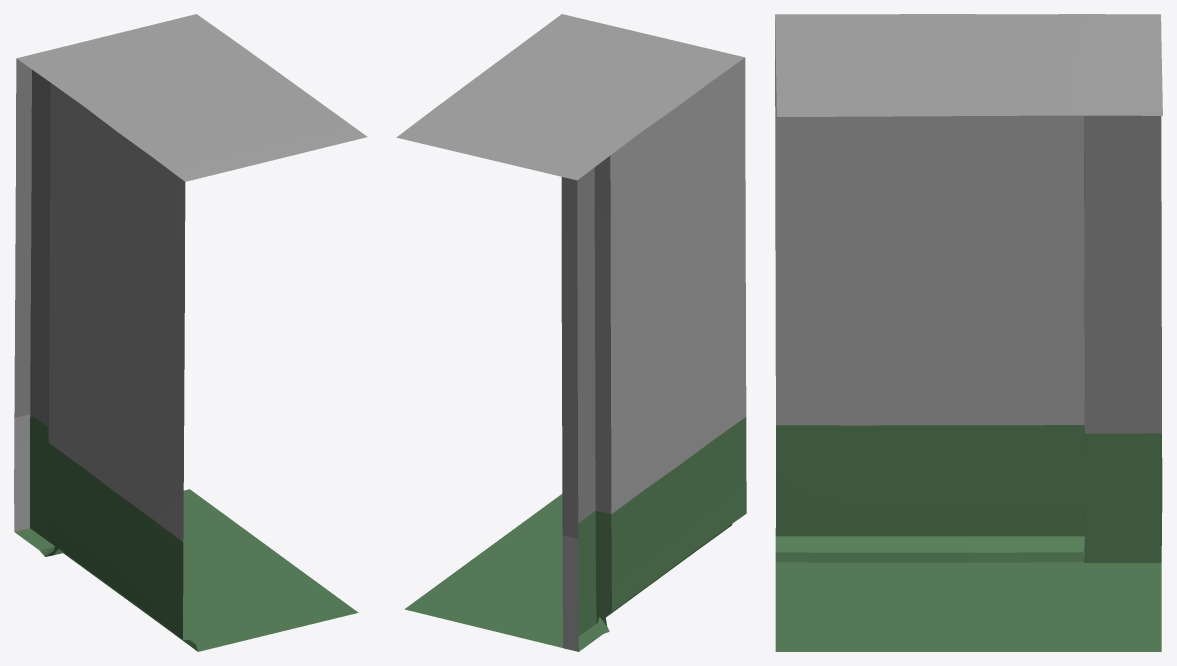
File: Mapa2.fbx
The picture shows the model from 3 angles, left to right: view 1: azimuth 30°, elevation 25°; view 2: azimuth 150°, elevation 25°; view 3: azimuth 270°, elevation 25°; orthographic projection. The views are drawn at different scales.
Visible parts, largest first — view 1: pPlane11; view 2: pPlane11; view 3: pPlane11.
Boxes of the visible parts, <box> form: pPlane11: <box>14,14,367,651</box>; pPlane11: <box>396,14,746,651</box>; pPlane11: <box>775,14,1162,651</box>.
Bounding box in the file's own units: 20.44 × 50.2 × 32.44.
